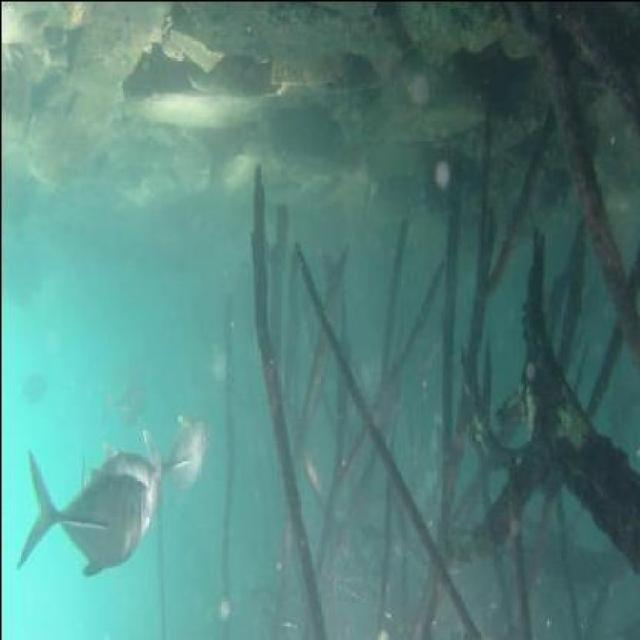Caranx_sexfasciatus_juvenile: (11, 445, 148, 577), (69, 414, 154, 548), (144, 400, 207, 518), (92, 343, 154, 395), (90, 382, 144, 431)
